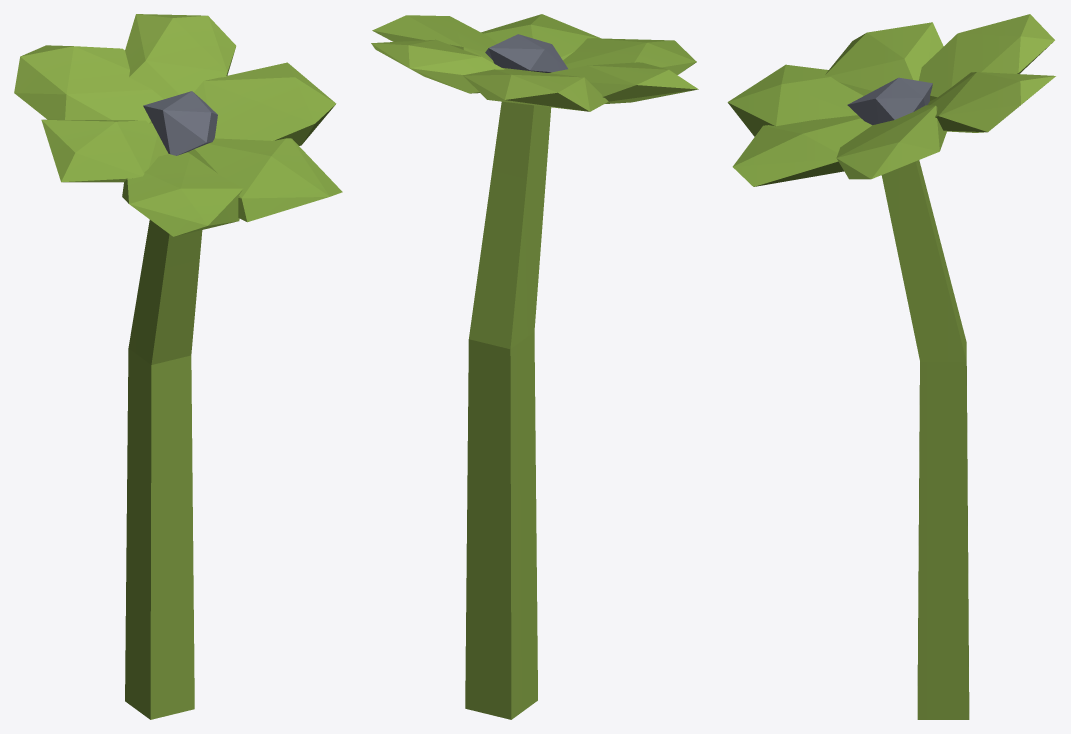
File: Flower_05.fbx
The picture shows the model from 3 angles, left to right: view 1: azimuth 30°, elevation 25°; view 2: azimuth 150°, elevation 25°; view 3: azimuth 270°, elevation 25°; orthographic projection. The views are drawn at different scales.
Visible parts, largest first — view 1: Flower_05; view 2: Flower_05; view 3: Flower_05.
Part boxes in pixels (bbox=[...]): Flower_05: bbox=[14, 14, 342, 719]; Flower_05: bbox=[371, 14, 698, 719]; Flower_05: bbox=[727, 14, 1055, 719].
Size of the model in its own units: 0.2735 by 0.5934 by 0.2709.
